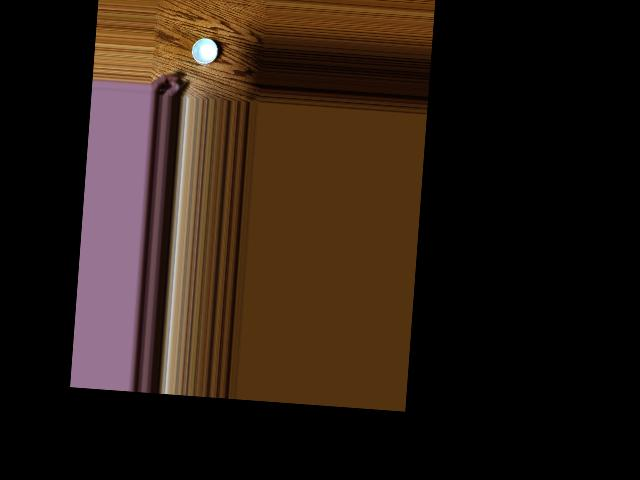cotage: (188, 34, 218, 69)
